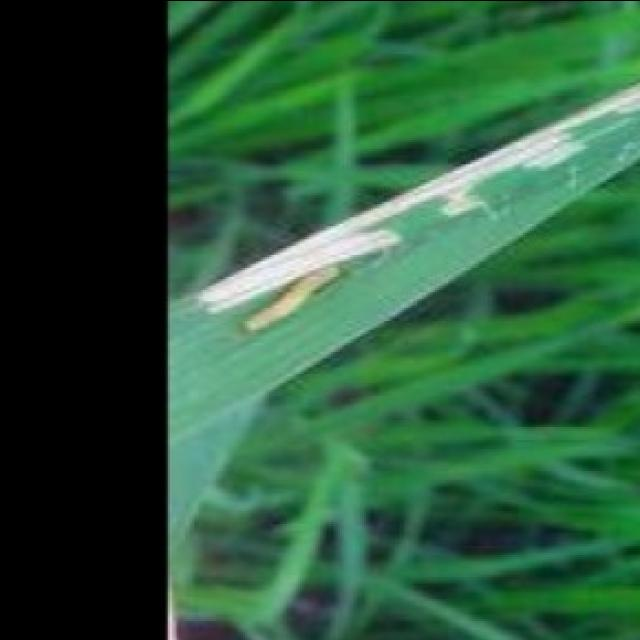rice leaf roller: (199, 85, 640, 331)
